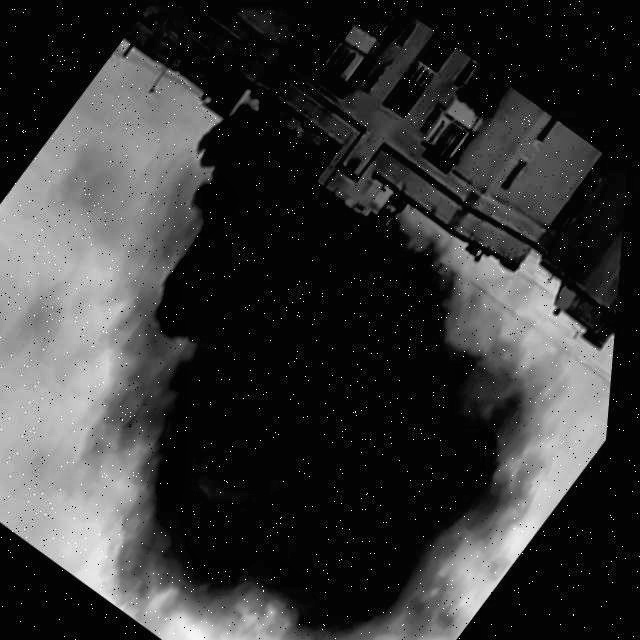Smoke: (0, 89, 634, 640)
